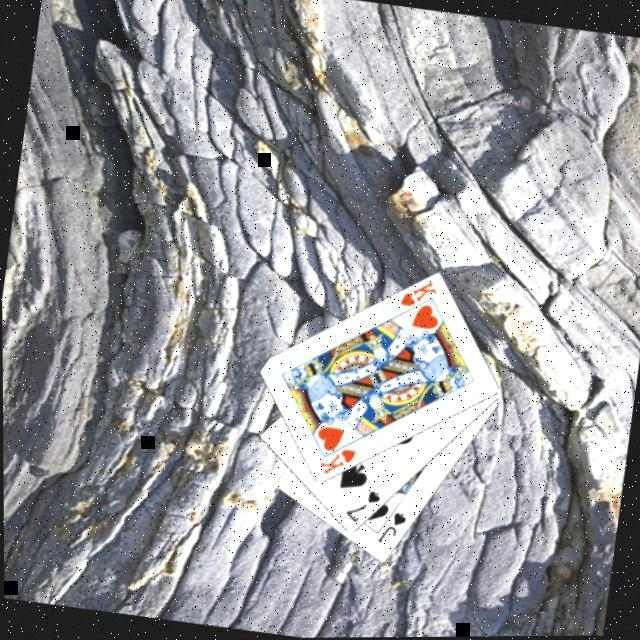7S: (342, 483, 386, 528)
JS: (374, 506, 412, 548)
KH: (316, 441, 361, 480), (398, 274, 442, 313)
